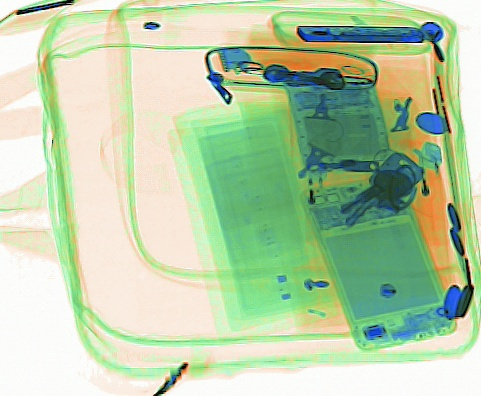lighter: (412, 141, 447, 249), (301, 152, 336, 247)
